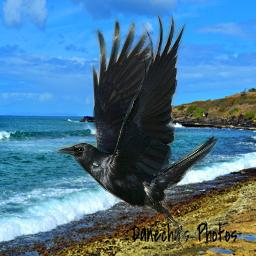Crow: (56, 11, 219, 246)
